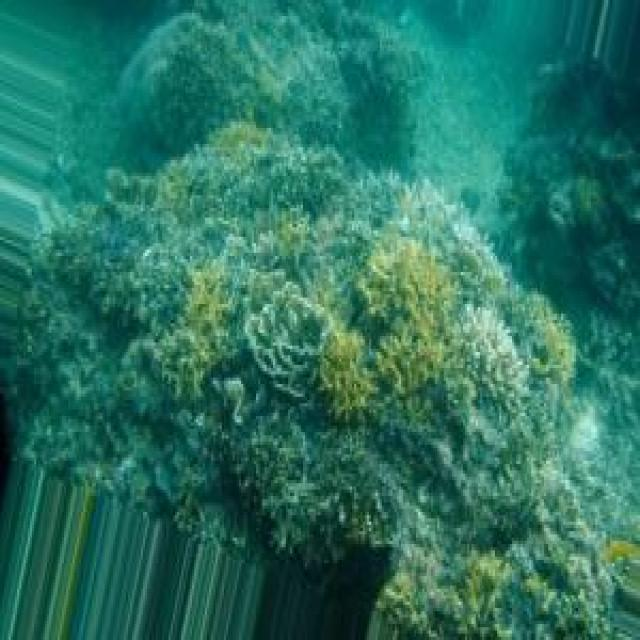healthy coral: (355, 242, 452, 413), (162, 262, 234, 400), (319, 328, 375, 423), (527, 294, 575, 395), (455, 551, 506, 638)
